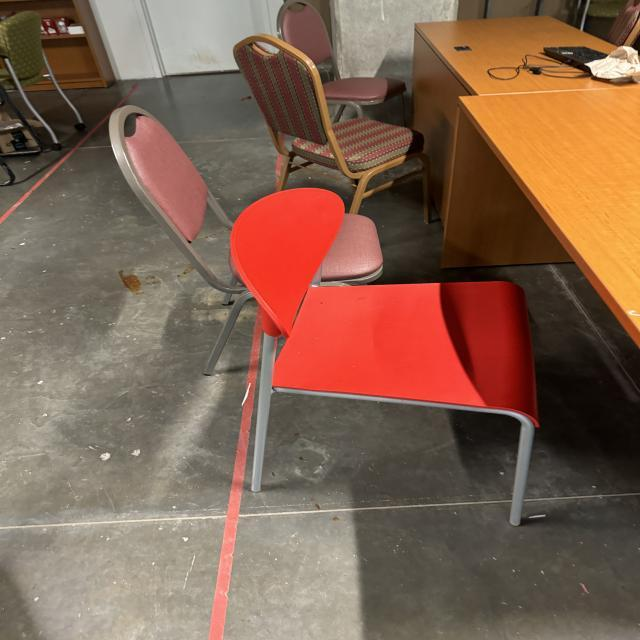chair: (234, 185, 544, 522), (233, 34, 444, 226)
